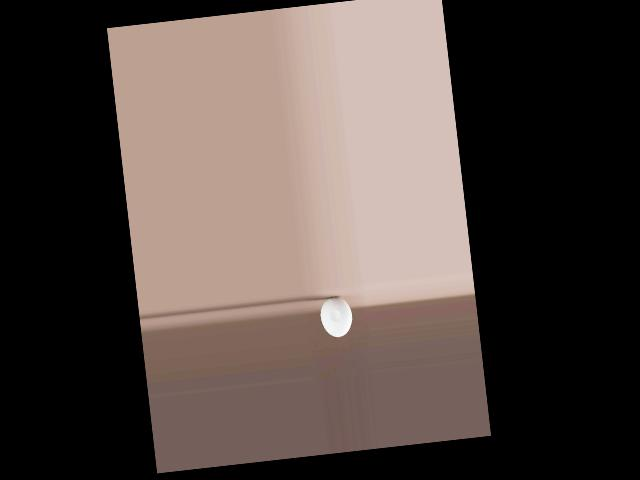egg: (318, 295, 354, 339)
